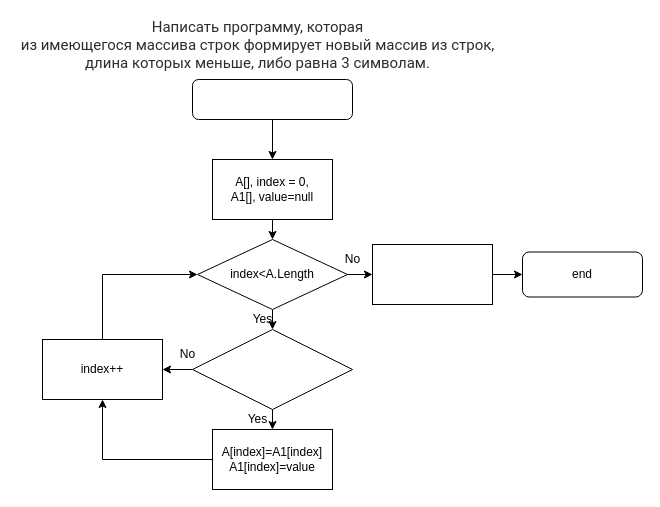
The diagram is 660 pixels wide and 507 high, and some of its shapes have lost their labels. The shapes that lost their labels are listed below. From the top down, each one's centre as x and y in pixels, then its label:
the point at 272,99: start
the point at 432,274: print A1
the point at 272,369: value.Length<4
